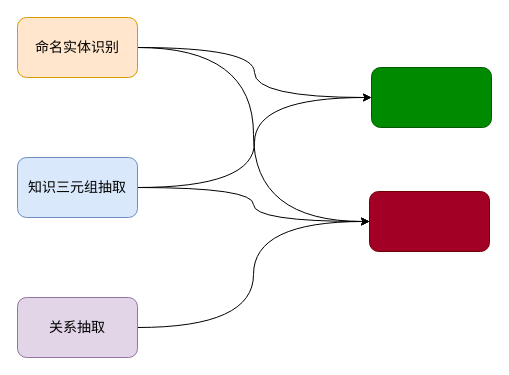
Image size: 509x375. Some labels were removed from this diagram. The shapes that lost their labels are listed below. From the top down, each one's box as (x1, y1, x2, y2) in pixels, then its label:
(370, 66, 492, 128): 抽取任务
(368, 190, 490, 252): 分类任务
